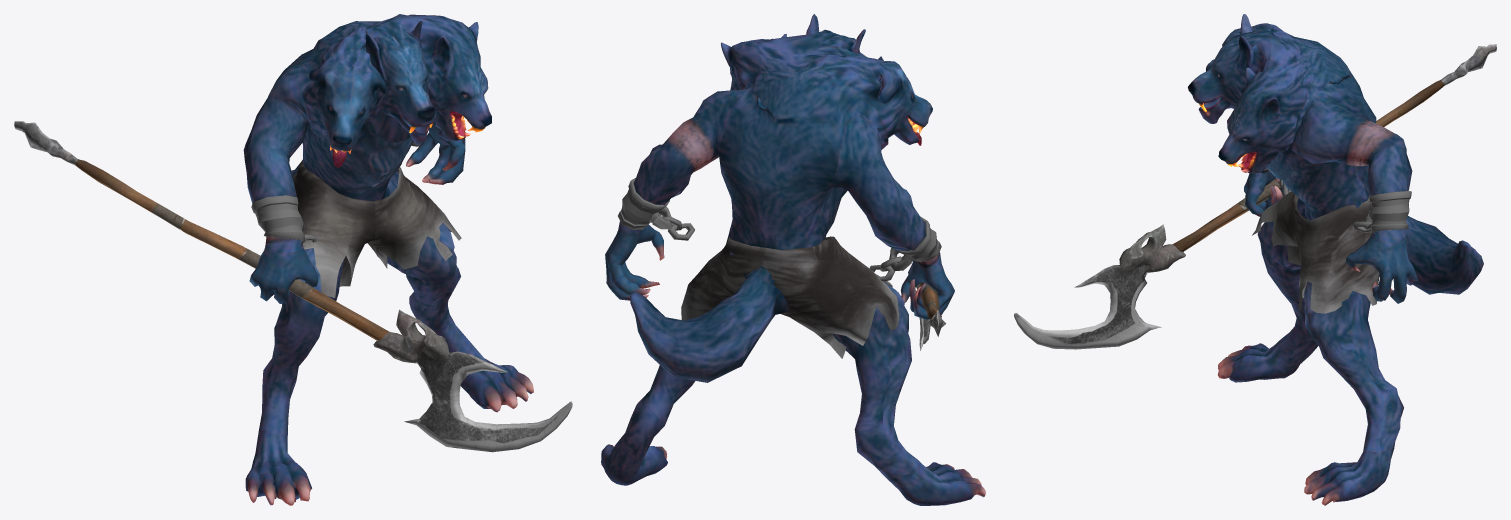
File: Cerberus.glb
3 views of the same model, side by side, from view 1: azimuth 30°, elevation 25°; view 2: azimuth 150°, elevation 25°; view 3: azimuth 270°, elevation 25° (orthographic). The views are drawn at different scales.
Visible parts, largest first — view 1: Wolf_body_low.004, Wolf_sowrd_low.002, Wolf_pants_low.002, Wolf_body_low.005; view 2: Wolf_body_low.004, Wolf_pants_low.002, Wolf_body_low.005, Wolf_sowrd_low.002; view 3: Wolf_body_low.004, Wolf_sowrd_low.002, Wolf_pants_low.002, Wolf_body_low.005.
Boxes of the visible parts, x1,y1,x2,y2 form: Wolf_body_low.004: [243, 14, 533, 505]; Wolf_sowrd_low.002: [14, 121, 572, 452]; Wolf_pants_low.002: [292, 159, 461, 297]; Wolf_body_low.005: [251, 142, 419, 246]; Wolf_body_low.004: [601, 14, 985, 505]; Wolf_pants_low.002: [681, 228, 899, 358]; Wolf_body_low.005: [618, 178, 941, 281]; Wolf_sowrd_low.002: [913, 261, 946, 350]; Wolf_body_low.004: [1188, 14, 1483, 505]; Wolf_sowrd_low.002: [1014, 44, 1496, 349]; Wolf_pants_low.002: [1252, 191, 1379, 313]; Wolf_body_low.005: [1264, 168, 1411, 232].
Size of the model in its own units: 1.22 by 1.24 by 1.34.
Materials: 3 (2 with a texture image).
